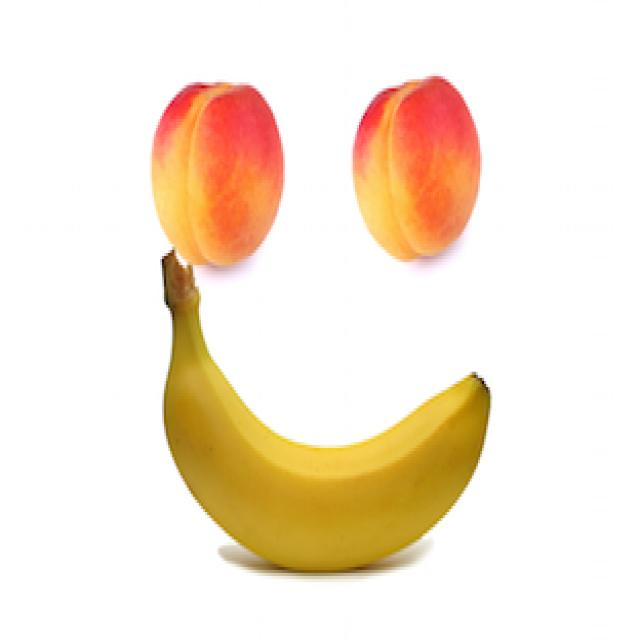apple: (151, 77, 287, 280), (354, 75, 480, 271)
banana: (158, 252, 500, 572)
